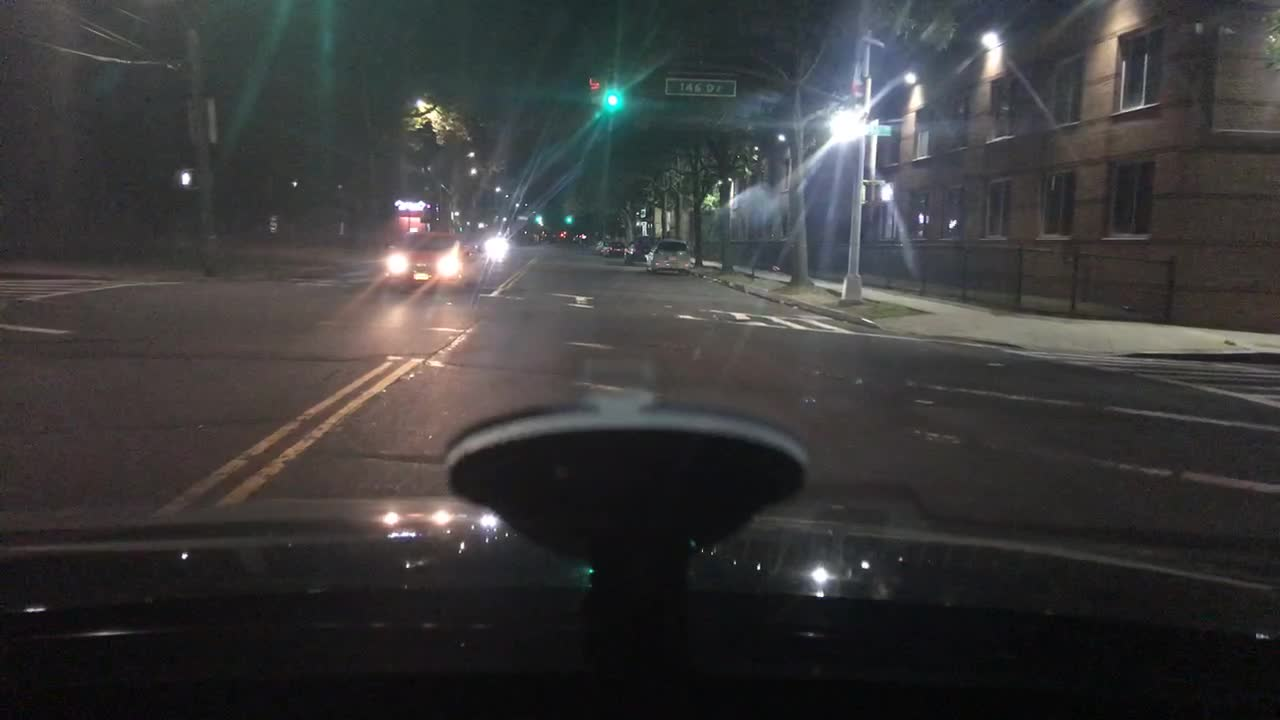car: (381, 229, 486, 292), (639, 236, 693, 275), (465, 226, 511, 266), (617, 231, 658, 266), (600, 239, 626, 256), (592, 236, 607, 253)
traffic light: (874, 177, 896, 206), (604, 74, 619, 110), (847, 77, 864, 106), (584, 71, 597, 106), (174, 169, 192, 189), (563, 206, 573, 225), (533, 205, 541, 223)
traffic sign: (665, 74, 734, 98), (860, 123, 891, 137)
